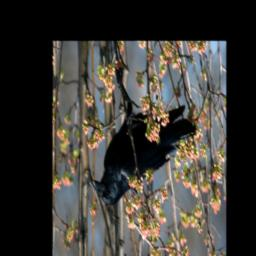Crow: (89, 70, 194, 210)
